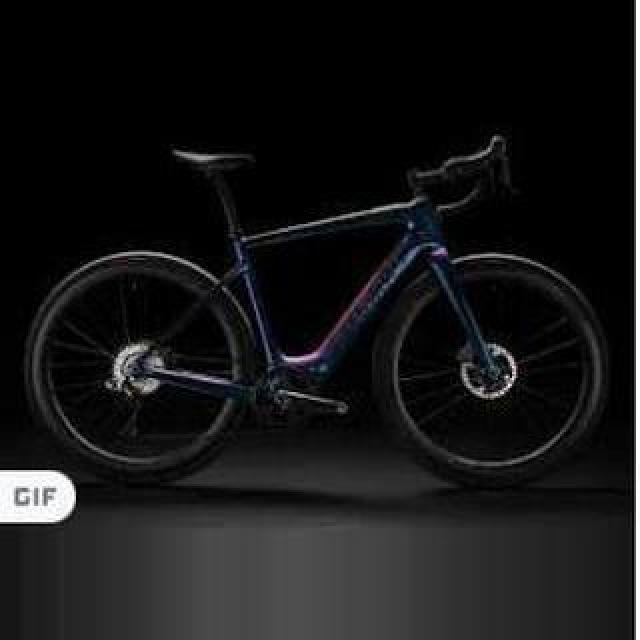Person: (14, 126, 600, 498)
